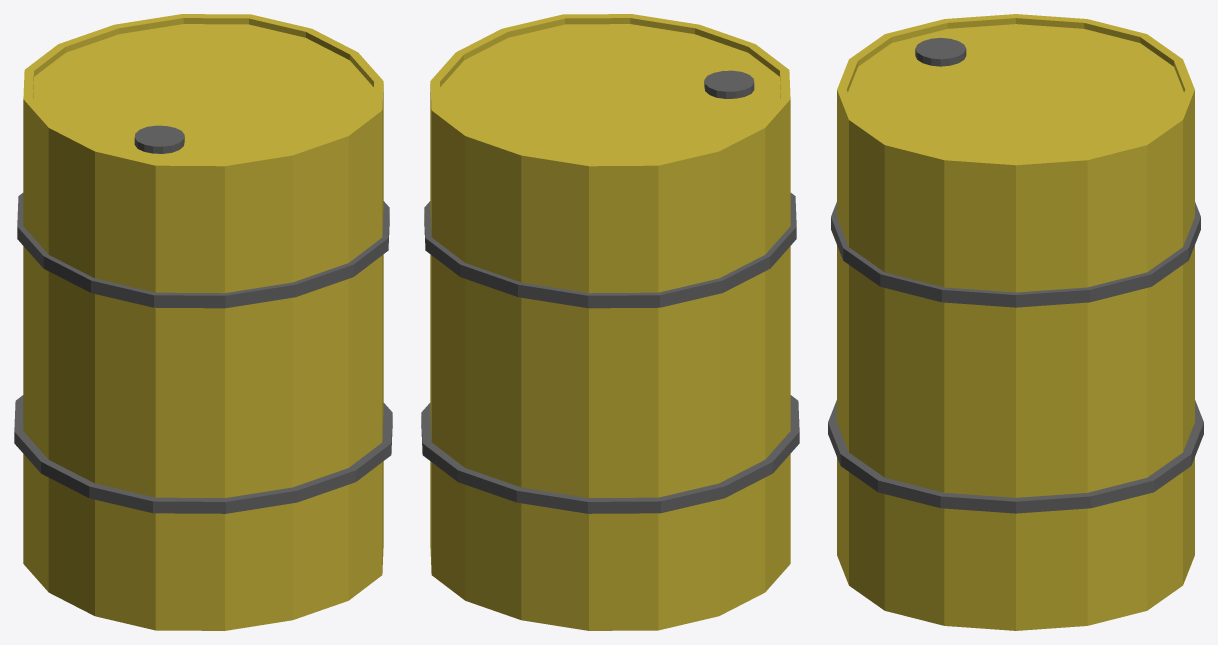
Rendered from barrel.fbx.
3 views of the same model, side by side, from view 1: azimuth 30°, elevation 25°; view 2: azimuth 150°, elevation 25°; view 3: azimuth 270°, elevation 25° (orthographic).
Visible parts, largest first — view 1: Plane.007; view 2: Plane.007; view 3: Plane.007.
Part boxes in pixels (<box>): Plane.007: <box>14,14,392,630</box>; Plane.007: <box>421,14,799,630</box>; Plane.007: <box>828,14,1203,630</box>.
Bounding box in the file's own units: 146 × 200 × 146.
